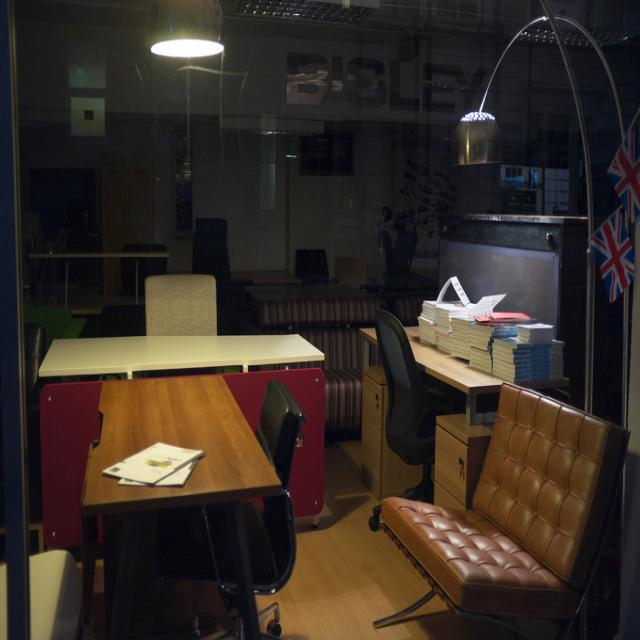chair: (373, 382, 629, 634), (198, 376, 308, 632), (374, 306, 464, 502), (144, 271, 218, 336)
desk: (72, 394, 290, 623)
